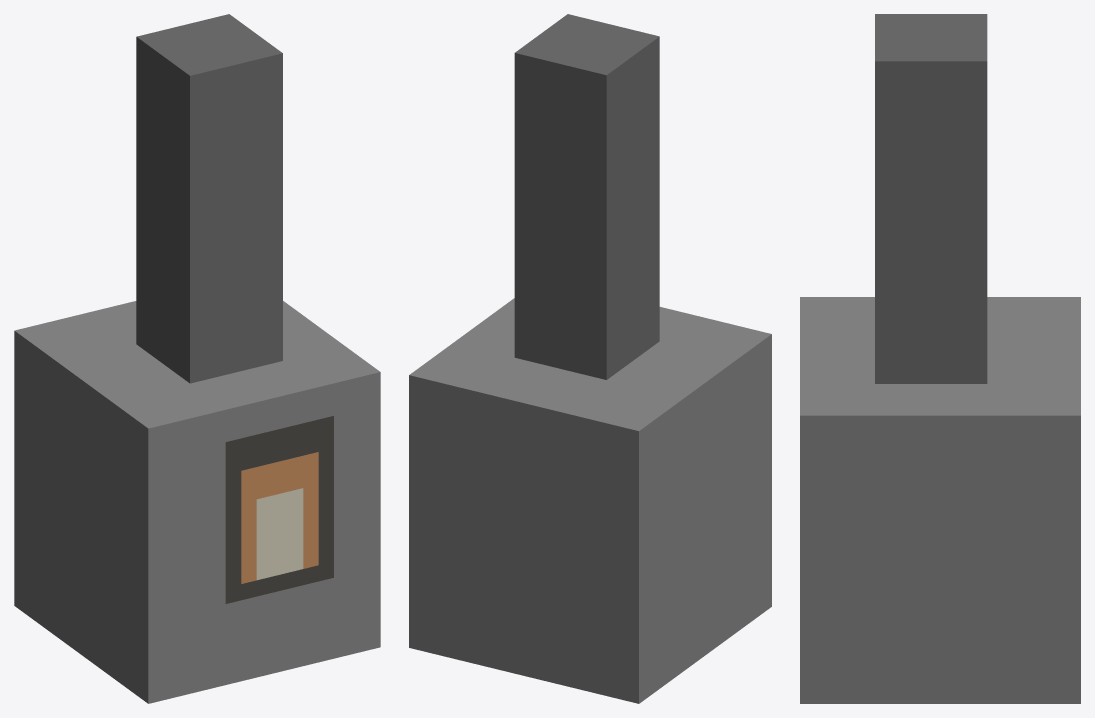
Rendered from fragua_01.glb.
3 renders of one model, left to right at view 1: azimuth 30°, elevation 25°; view 2: azimuth 150°, elevation 25°; view 3: azimuth 270°, elevation 25°, orthographic. The views are drawn at different scales.
Parts seen in each view (by area): view 1: fragua; view 2: fragua; view 3: fragua.
Boxes of the visible parts, x1=… form: fragua: x1=14, y1=14, x2=380, y2=703; fragua: x1=409, y1=14, x2=771, y2=703; fragua: x1=800, y1=14, x2=1080, y2=703.
Bounding box in the file's own units: 1 × 2.4 × 1.
